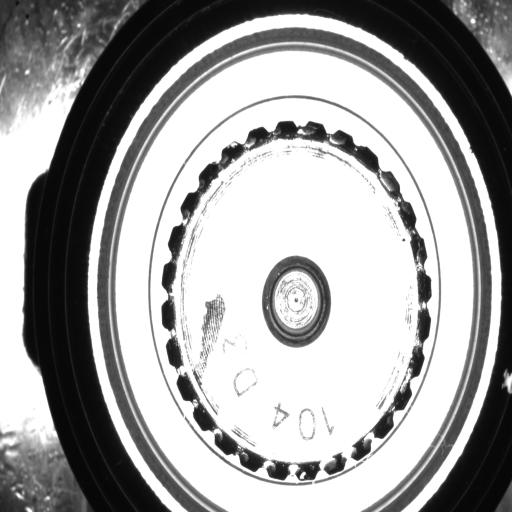gear: (162, 121, 434, 485)
